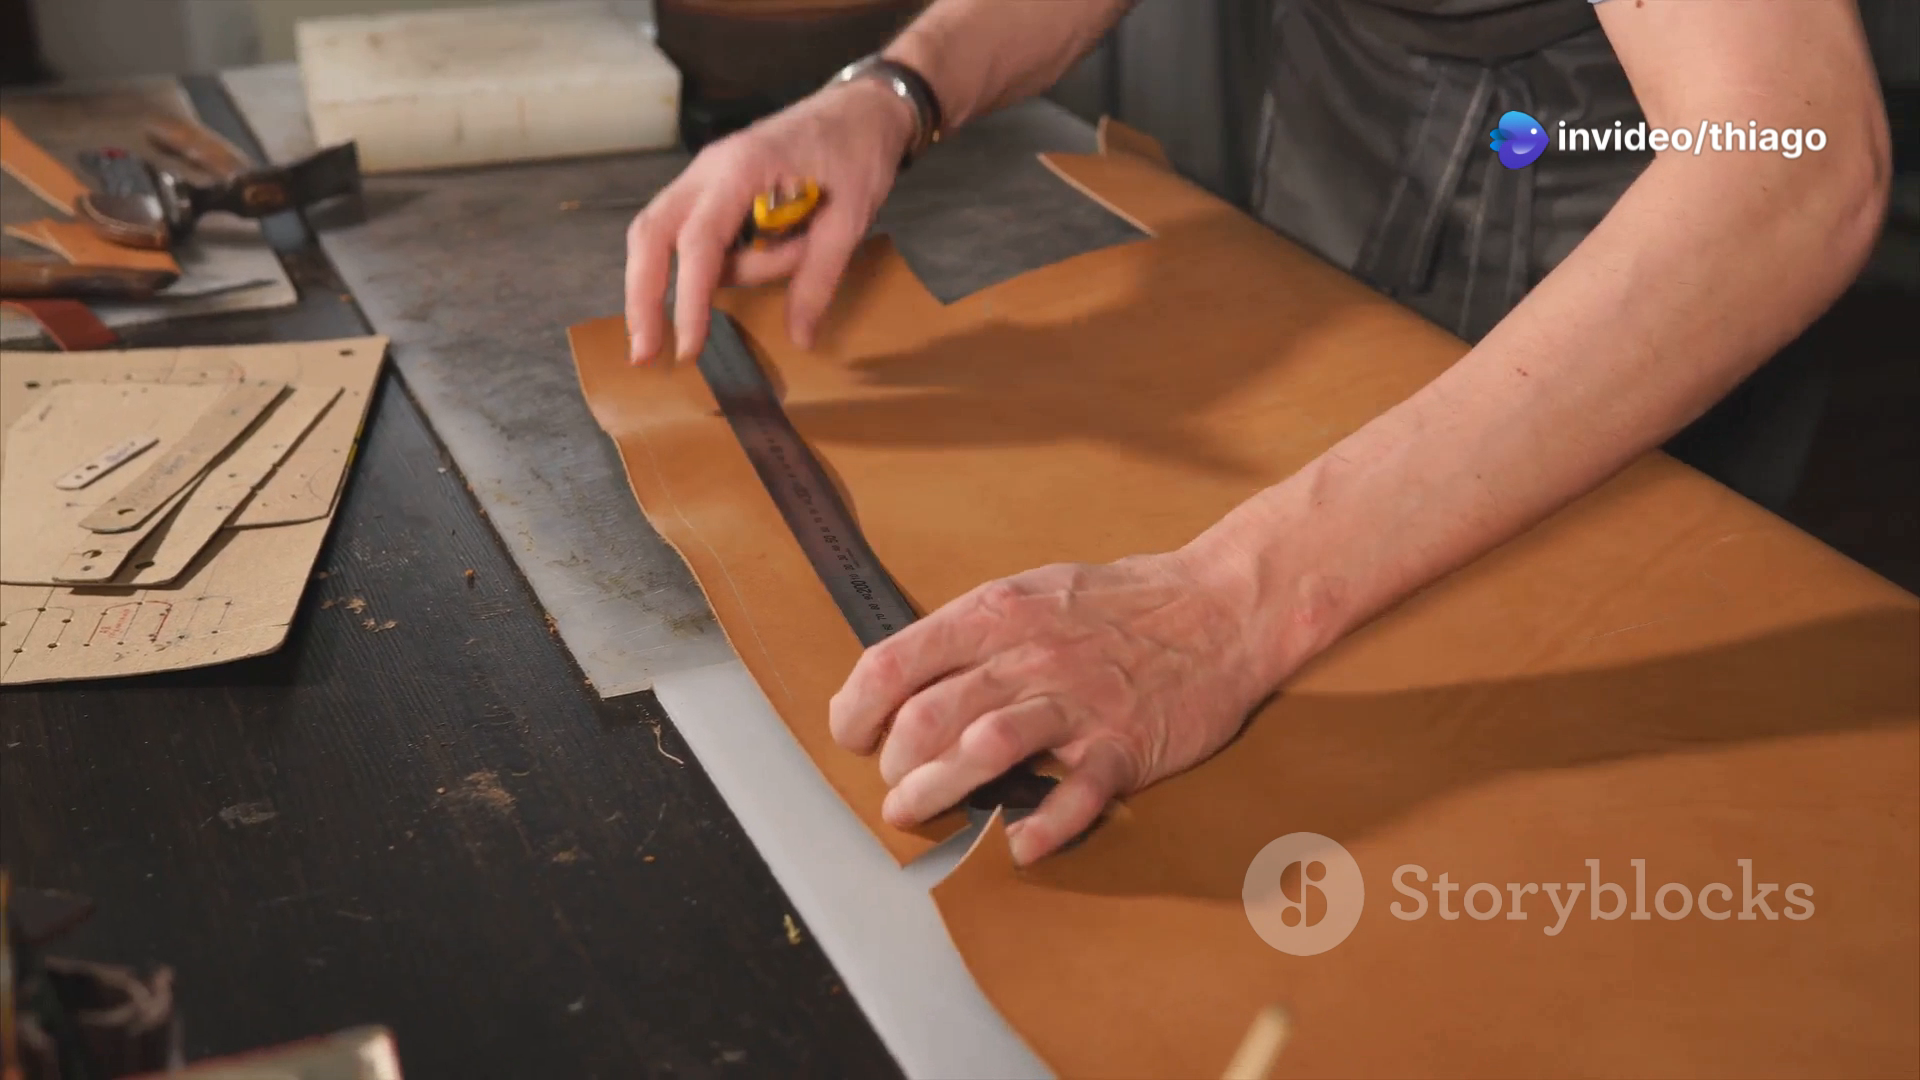cortante: (757, 189, 812, 218)
